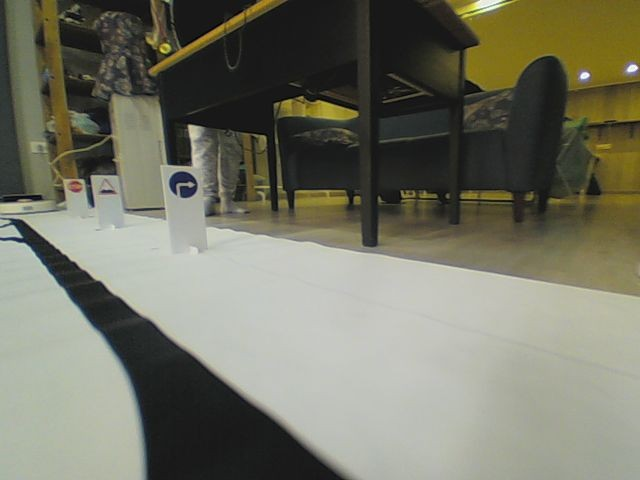Nerov: (96, 176, 116, 195)
Right: (167, 169, 198, 198)
